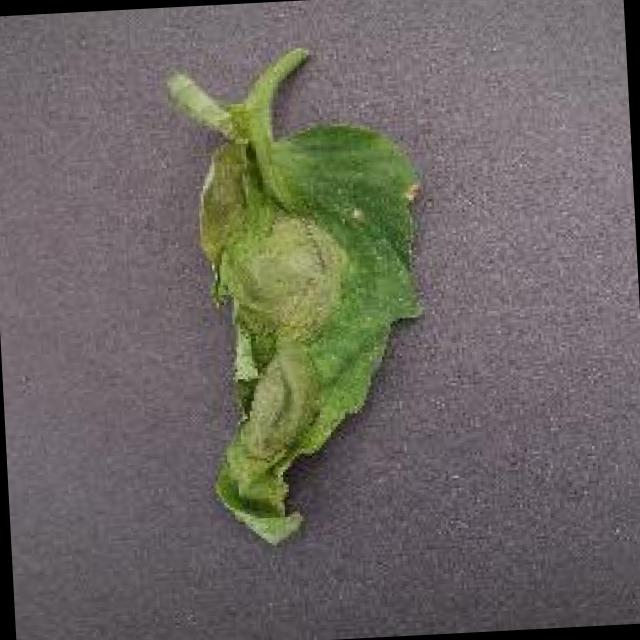Tomato_Late_Blight: (144, 27, 458, 575)
